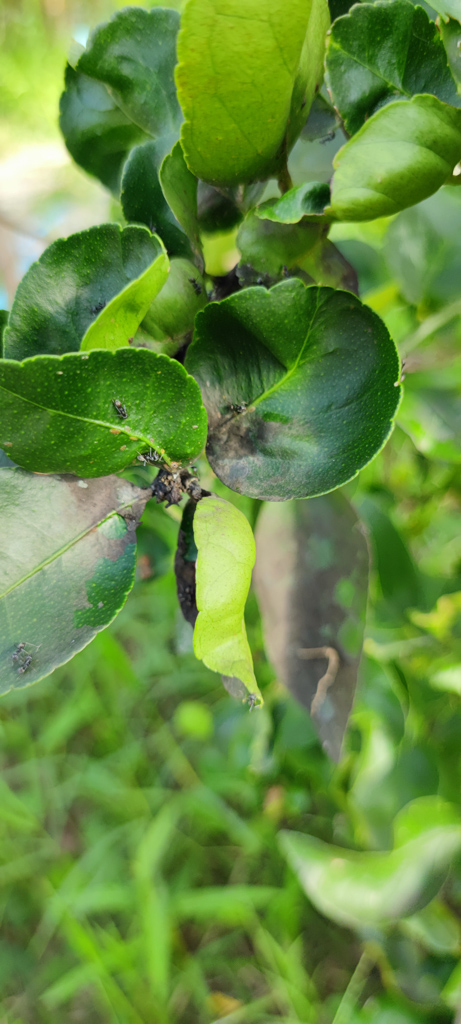Sooty mold: (4, 472, 144, 691), (263, 516, 375, 772), (205, 388, 314, 483), (203, 256, 294, 306), (172, 529, 205, 645), (195, 179, 253, 229), (328, 236, 370, 297), (145, 464, 199, 506)
